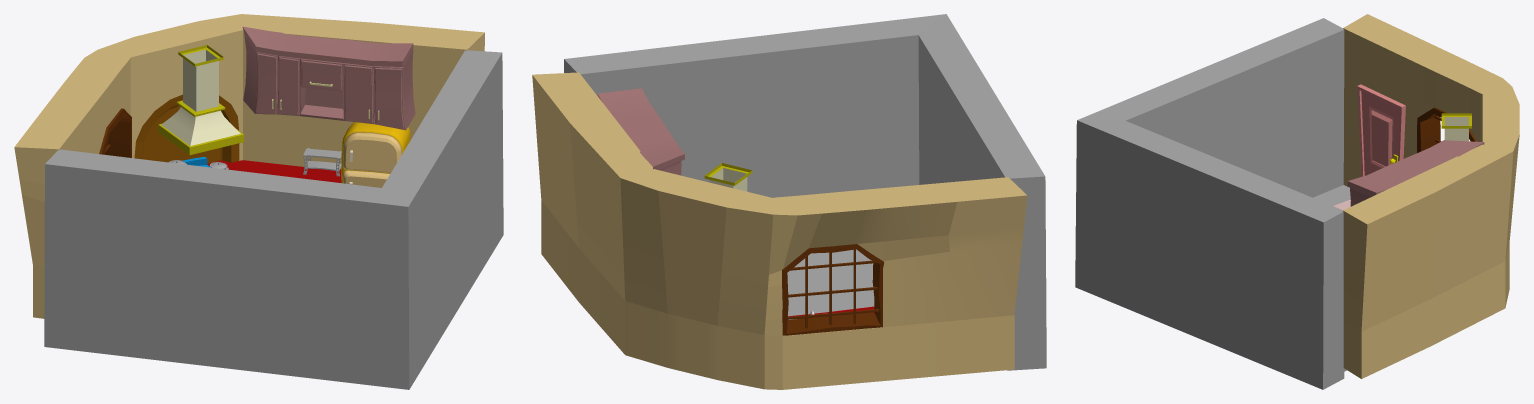
File: kitchen_v02_sizing_set.fbx
3 renders of one model, left to right at view 1: azimuth 30°, elevation 25°; view 2: azimuth 150°, elevation 25°; view 3: azimuth 270°, elevation 25°, orthographic. The views are drawn at different scales.
Parts seen in each view (by area): view 1: wall2, wall, dech_body, hood_body, refri_door1, hood_popout, dech_down_1, window, refri_body, shelf; view 2: wall, wall2, window, floor, dech_body, hood_body; view 3: wall2, wall, door_body, dech_body, window, hood_body, floor.
Boxes of the visible parts, x1,y1,x2,y2 form: wall2: (44,50,503,389); wall: (14,14,484,318); dech_body: (242,26,415,130); hood_body: (161,49,240,145); refri_door1: (342,132,401,187); hood_popout: (158,45,243,155); dech_down_1: (207,160,341,182); window: (99,108,131,157); refri_body: (341,122,410,183); shelf: (303,148,341,176); wall: (532,72,1027,389); wall2: (564,14,1046,370); window: (782,244,884,335); floor: (787,249,874,316); dech_body: (597,88,684,175); hood_body: (709,168,747,191); wall2: (1075,18,1344,389); wall: (1343,14,1519,378); door_body: (1357,84,1405,176); dech_body: (1347,140,1484,206); window: (1417,107,1476,152); hood_body: (1444,117,1468,141); floor: (1313,185,1350,371).
Size of the model in its own units: 18638 by 7063 by 16641.
